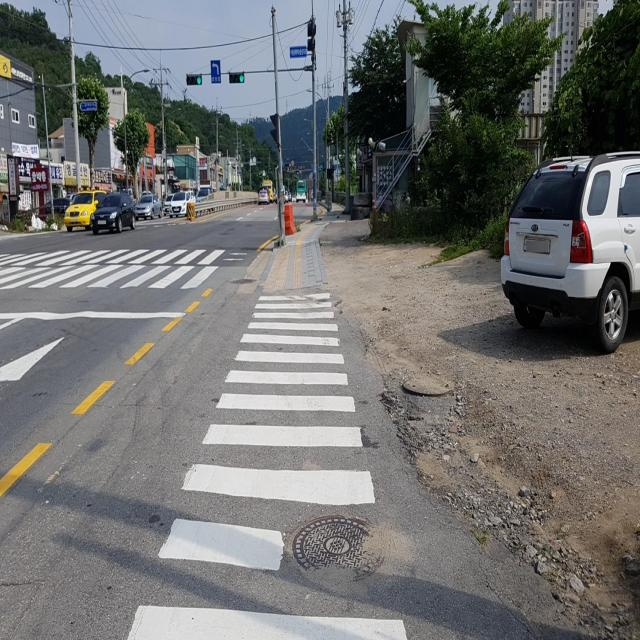횡단보도: (126, 291, 409, 639), (0, 248, 219, 291)
